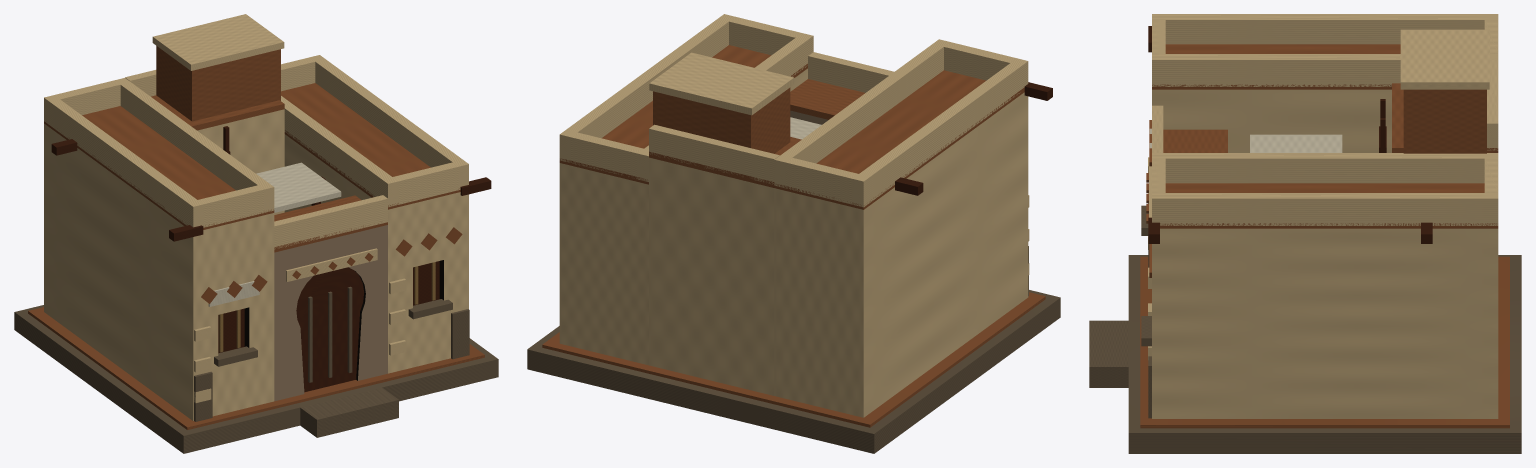
Rendered from Berber_House_Age4.fbx.
The picture shows the model from 3 angles, left to right: view 1: azimuth 30°, elevation 25°; view 2: azimuth 150°, elevation 25°; view 3: azimuth 270°, elevation 25°; orthographic projection. The views are drawn at different scales.
Visible parts, largest first — view 1: west_room, east_room, stone_foundation, entrance_room, roof_grain_store, horseshoe_door, west_parapet, west_roof_deck, east_roof_deck, courtyard_earthen_floor, west_parapet.001, east_parapet.001 (+22 smaller); view 2: west_room, north_room, east_room, stone_foundation, west_roof_deck, west_parapet, courtyard_earthen_floor, west_parapet.001, grain_store_lime_cap, roof_grain_store, east_parapet.001, link_roof_parapet (+9 smaller); view 3: east_room, stone_foundation, west_room, east_parapet.001, east_parapet, west_parapet, west_parapet.001, courtyard_earthen_floor, grain_store_lime_cap, roof_grain_store, east_roof_deck, west_roof_deck (+9 smaller).
Boxes of the visible parts, x1,y1,x2,y2 form: west_room: (44,123,274,420); east_room: (284,134,468,373); stone_foundation: (14,305,498,453); entrance_room: (274,225,387,401); roof_grain_store: (156,46,280,121); horseshoe_door: (296,267,364,392); west_parapet: (44,95,203,227); west_roof_deck: (44,106,274,229); east_roof_deck: (281,83,460,209); courtyard_earthen_floor: (28,307,484,429); west_parapet.001: (115,78,274,212); east_parapet.001: (310,55,468,189); west_room: (774,92,1028,417); north_room: (649,157,774,395); east_room: (559,68,807,365); stone_foundation: (527,290,1060,453); west_roof_deck: (774,70,1024,209); west_parapet: (852,58,1028,207); courtyard_earthen_floor: (542,292,1045,427); west_parapet.001: (774,39,949,187); grain_store_lime_cap: (649,52,794,115); roof_grain_store: (653,87,790,153); east_parapet.001: (559,14,735,162); link_roof_parapet: (649,124,779,184); east_room: (1152,228,1498,418); stone_foundation: (1128,255,1521,453); west_room: (1152,89,1391,152); east_parapet.001: (1152,193,1498,225); east_parapet: (1152,153,1498,183); west_parapet: (1152,14,1498,44); west_parapet.001: (1152,54,1498,86); courtyard_earthen_floor: (1140,256,1509,428); grain_store_lime_cap: (1400,29,1489,89); roof_grain_store: (1403,89,1486,153); east_roof_deck: (1160,183,1498,228); west_roof_deck: (1152,44,1400,89).
Bounding box in the file's own units: 368 × 303 × 374.
7 materials, 7 textured.
